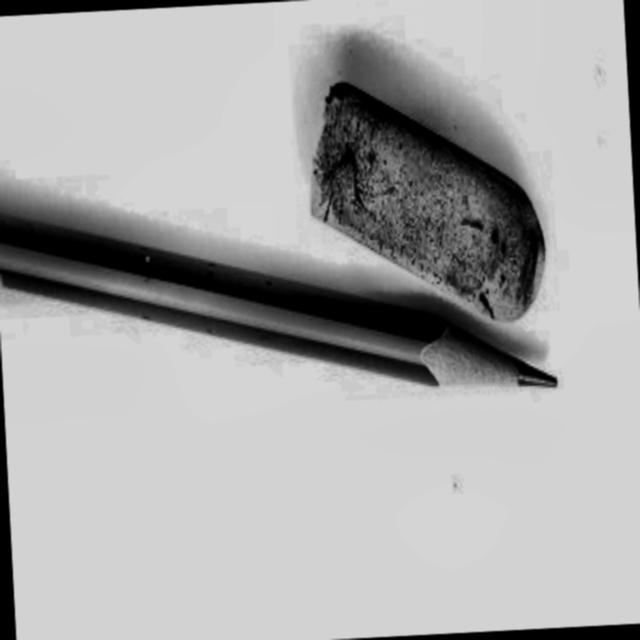eraser: (273, 76, 574, 343)
